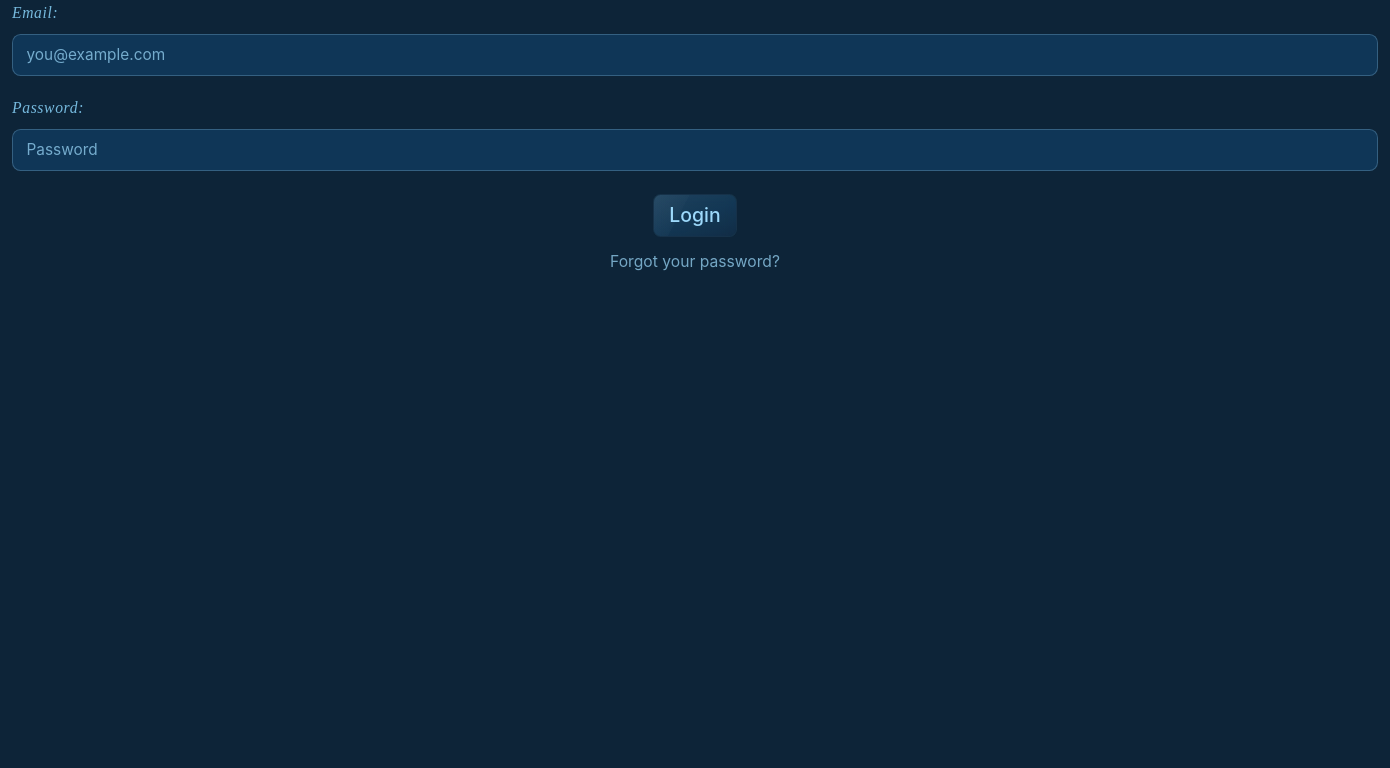
Test: LoginForm › surfaces the server-provided message when login is rejected
The width and height of the screenshot is (1390, 768).
Type "muki@example.com" into the field labelled "Email:".
click(695, 55); type("muki@example.com")  # box [12,34,1378,76]
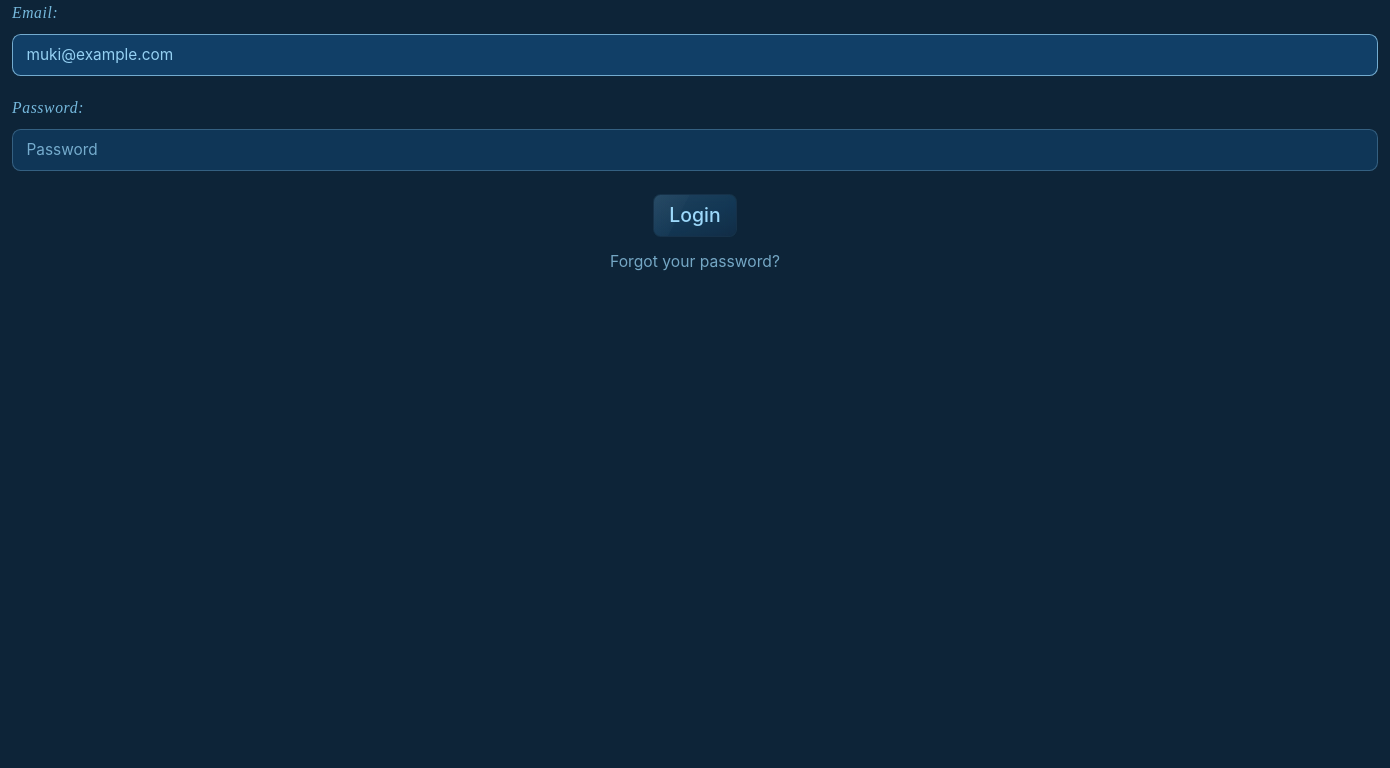
Type "hunter22" into the password field labelled "Password:".
click(695, 150); type("hunter22")  # box [12,129,1378,171]
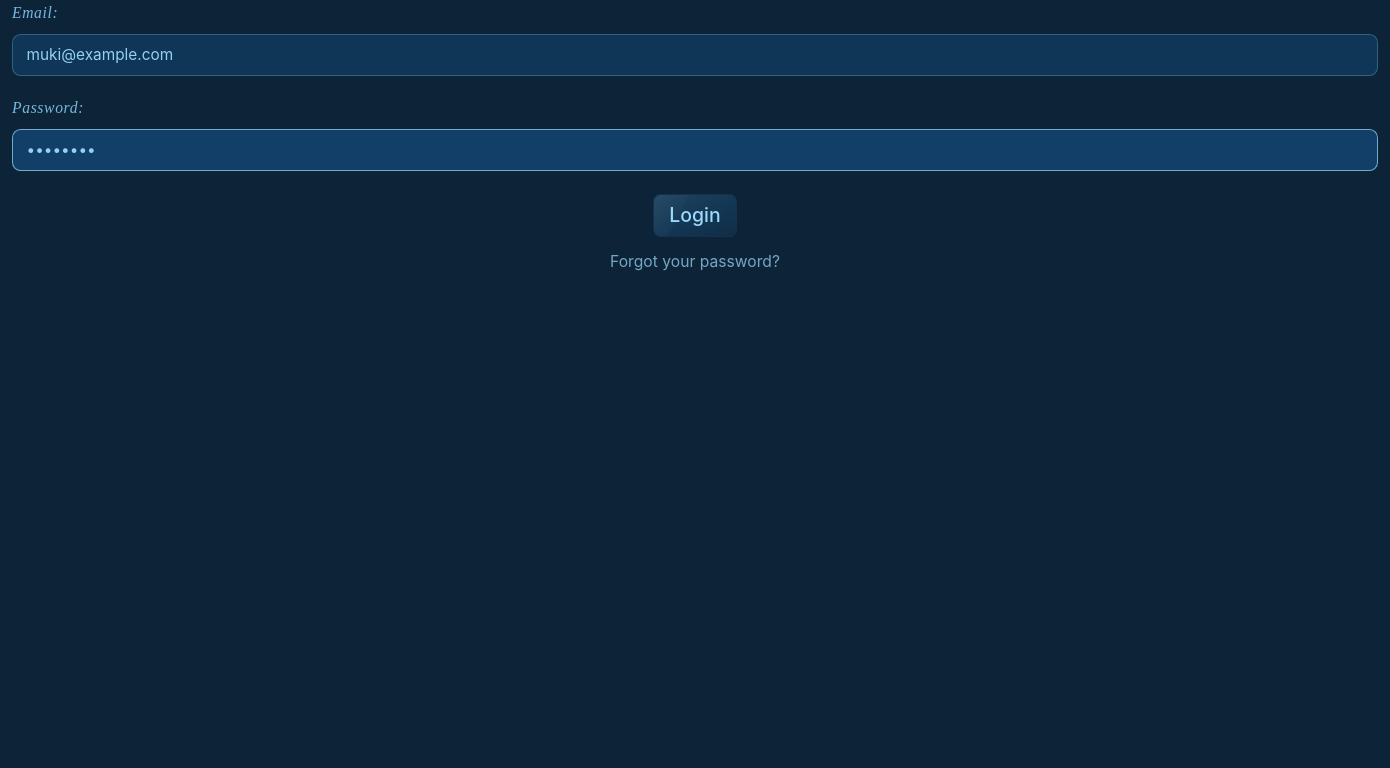
Click the button "Login".
click(695, 215)  # box [653,194,737,237]
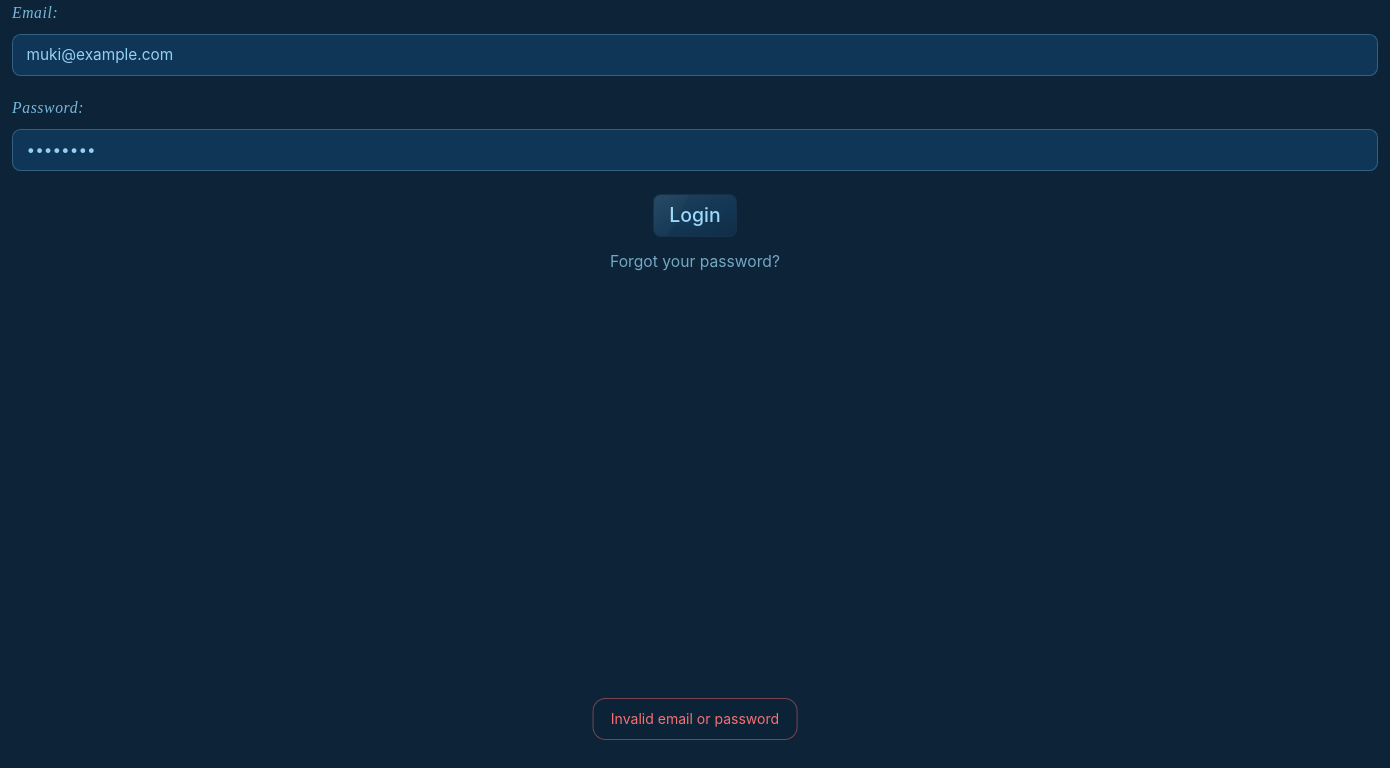
Check: the message reads "Invalid email or password", box [611,710,779,727]
